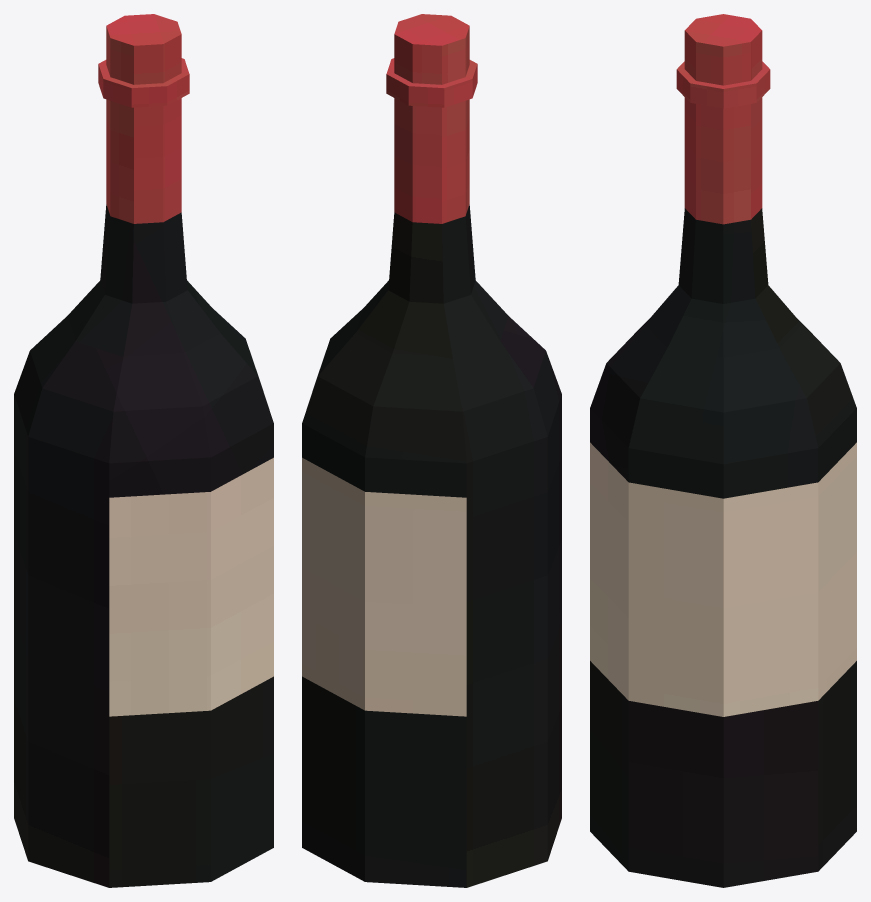
The model's file is WineBottle.obj.
3 renders of one model, left to right at view 1: azimuth 30°, elevation 25°; view 2: azimuth 150°, elevation 25°; view 3: azimuth 270°, elevation 25°, orthographic.
Visible parts, largest first — view 1: Cube.007_Cube.005; view 2: Cube.007_Cube.005; view 3: Cube.007_Cube.005.
Part boxes in pixels (bbox=[...]): Cube.007_Cube.005: bbox=[14, 14, 273, 887]; Cube.007_Cube.005: bbox=[302, 14, 561, 887]; Cube.007_Cube.005: bbox=[590, 14, 856, 887].
Bounding box in the file's own units: 0.0784 × 0.2596 × 0.0784.
